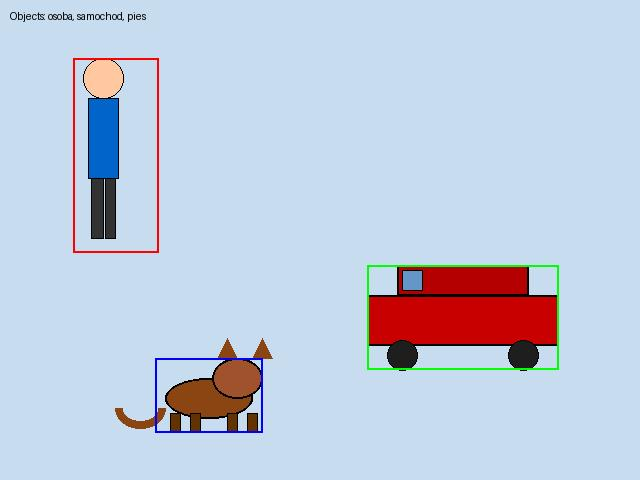osoba: (73, 58, 158, 252)
pies: (155, 358, 262, 432)
samochod: (367, 265, 558, 369)
